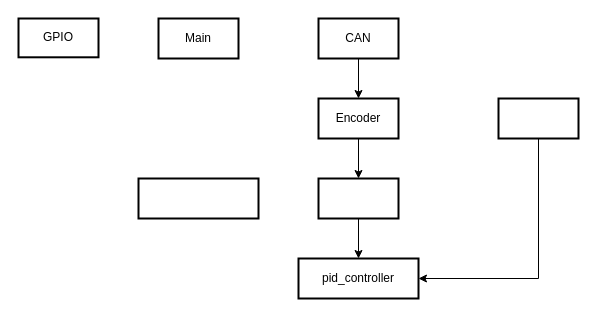
The diagram is 596 pixels wide and 316 high, and some of its shapes have lost their labels. The shapes that lost their labels are listed below. From the top down, each one's box as (x1, y1, x2, y2) in pixels, then its label:
(497, 97, 579, 139): Config
(137, 177, 259, 219): motor_control
(317, 177, 399, 219): timers
